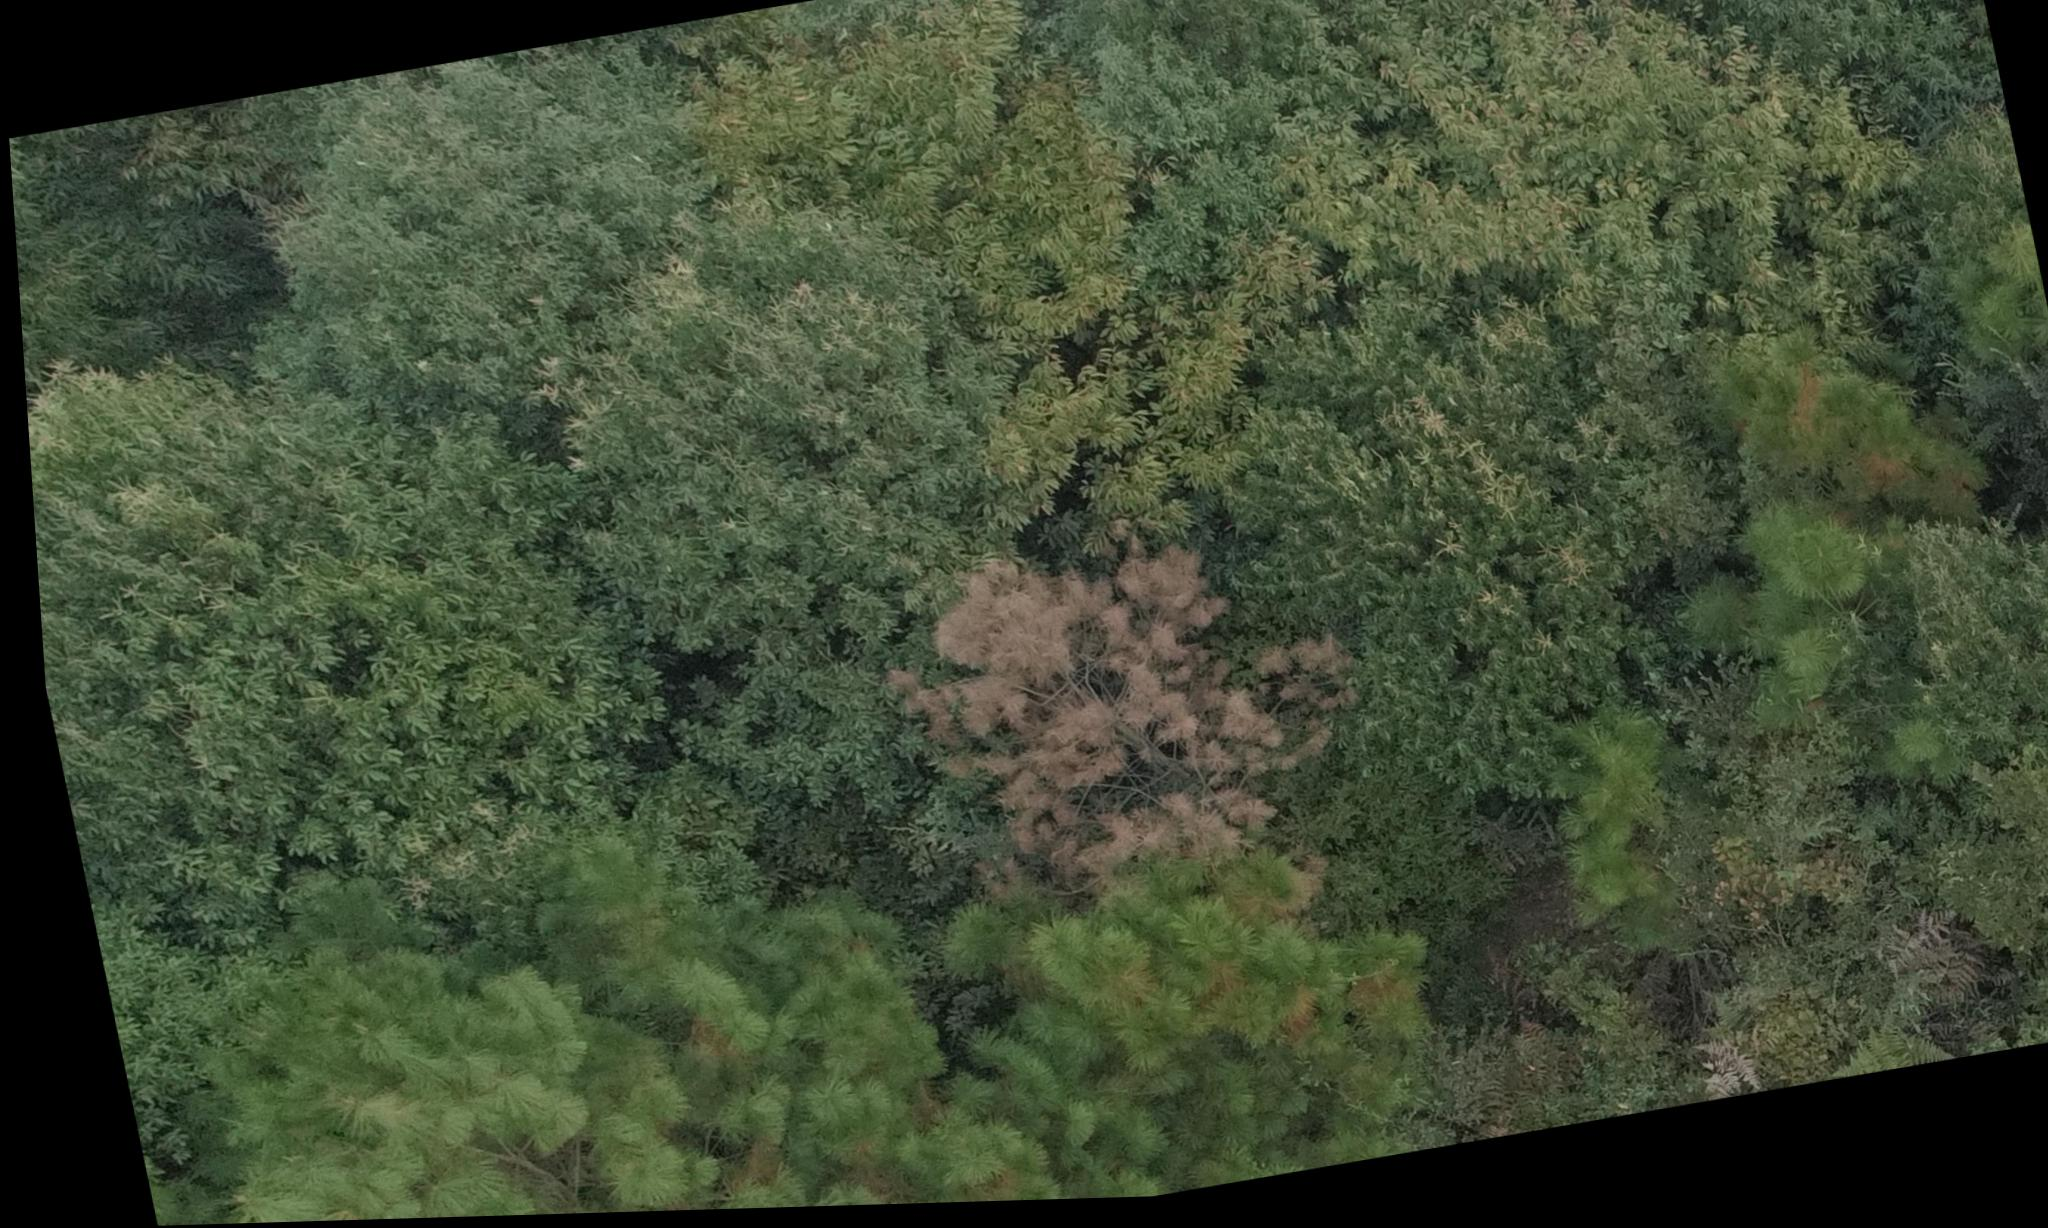heavy: (864, 491, 1386, 901)
light: (1053, 848, 1441, 1111), (1744, 338, 1975, 560)
